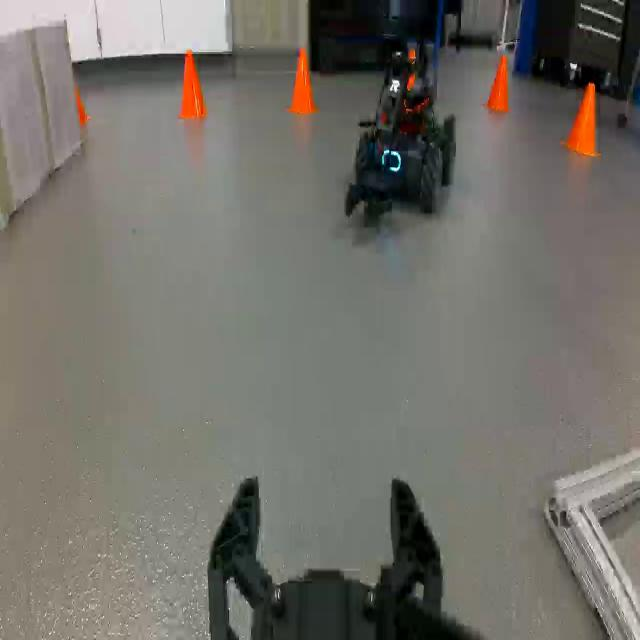cone: (562, 81, 606, 160), (175, 47, 212, 128), (285, 47, 320, 120), (484, 53, 518, 119)
metal barrier: (545, 449, 640, 640)
robot: (343, 27, 457, 224)
storage cube: (4, 28, 49, 224), (37, 11, 83, 201)
